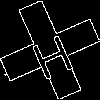H: (25, 25, 76, 82)
